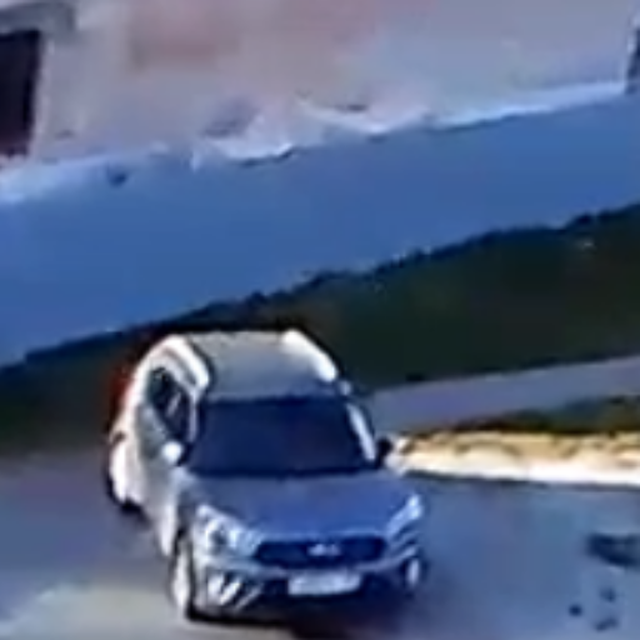car: (104, 328, 428, 619)
